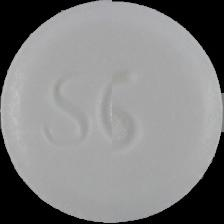44946-1008: (0, 0, 224, 224)
